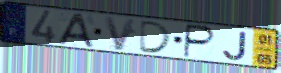4: (29, 8, 58, 45)
A: (57, 12, 96, 49)
D: (138, 19, 174, 55)
J: (222, 30, 249, 62)
P: (182, 23, 218, 60)
V: (102, 15, 138, 52)
